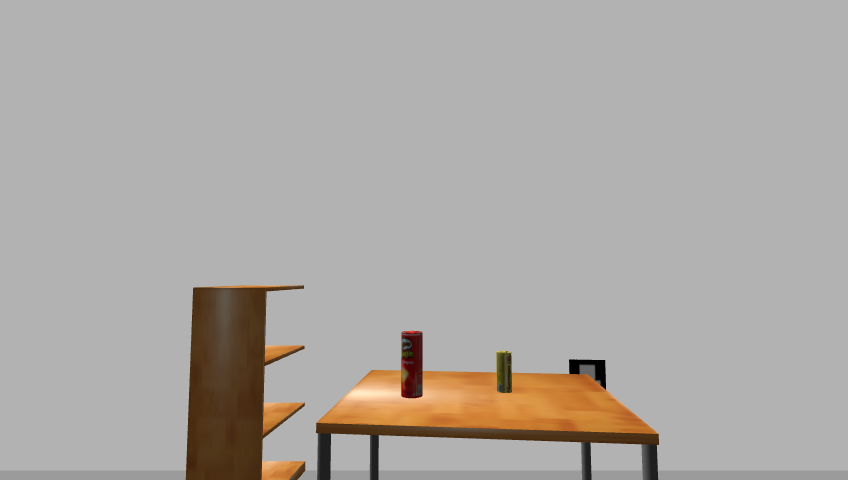aruco marker: (564, 358, 609, 394)
biscuits pack: (495, 350, 513, 395)
bookshelf: (183, 284, 313, 480)
dinner table: (310, 368, 667, 480)
pringles can: (399, 331, 424, 400)
